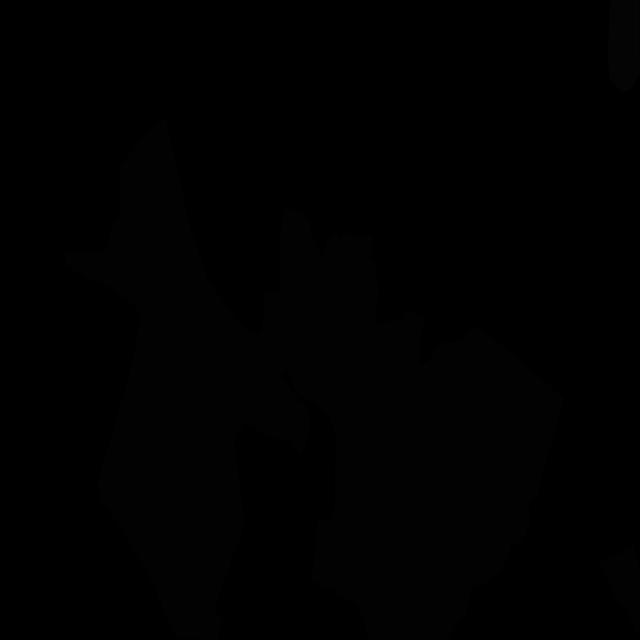cardboard: (251, 209, 564, 640), (65, 117, 310, 640), (598, 545, 640, 639)
soft_plastic: (608, 0, 640, 92)
